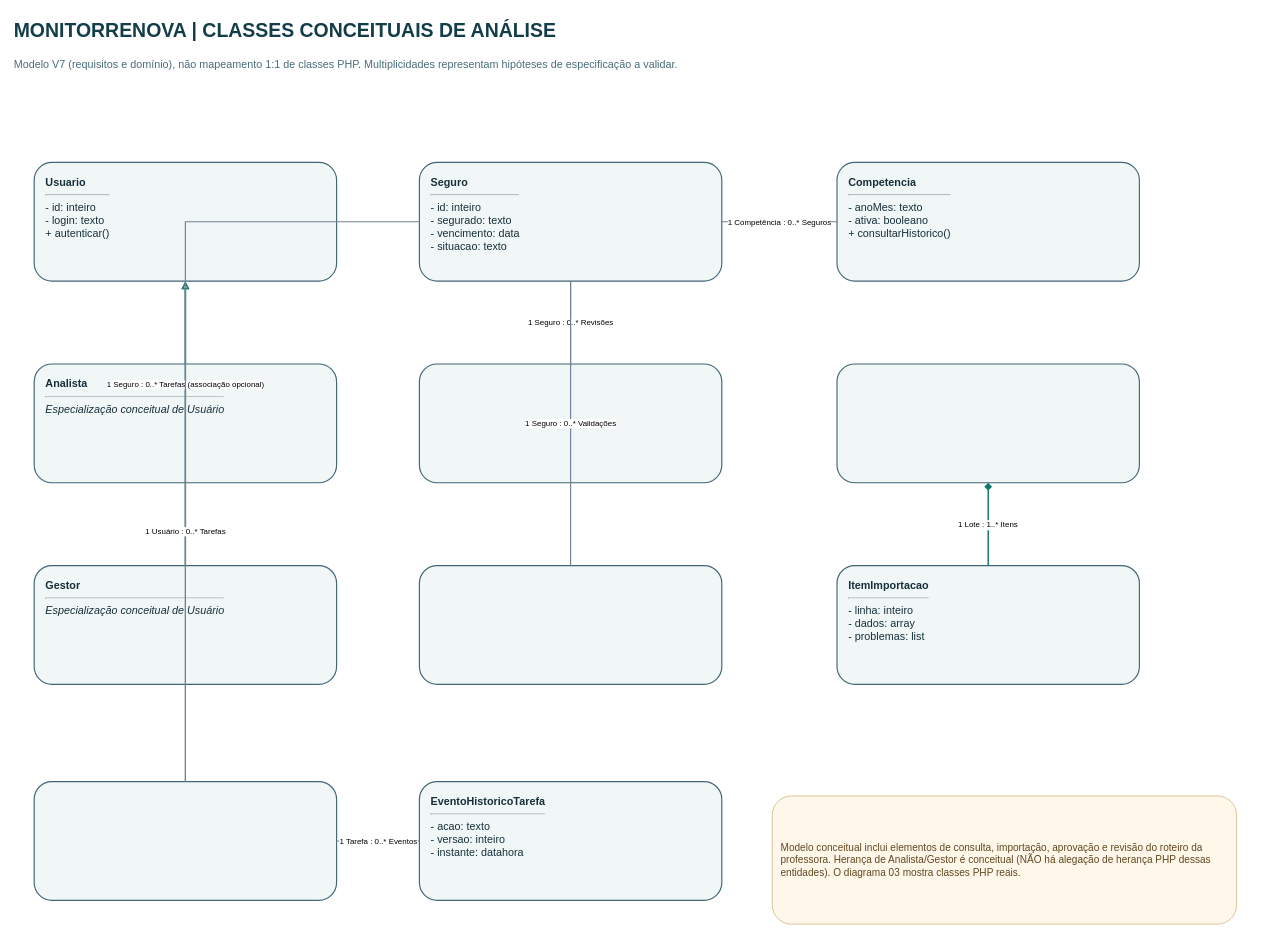
Image size: 1270x937. Some labels were removed from this diagram. The shapes that lost their labels are listed below. From the top down, each one's box as (x1, y1, x2, y2) in pixels, then its label:
(418, 363, 722, 483): Revisao - data: datahora - situacao: texto - observacao: texto
(836, 363, 1140, 483): LoteImportacao - id: inteiro - status: texto + validarPrevia()
(418, 565, 722, 685): ValidacaoApolice - fonte: texto - dataConsulta: datahora - resultado: texto
(33, 781, 337, 901): TarefaAcompanhamento - titulo: texto - situacao: texto - versao: inteiro
